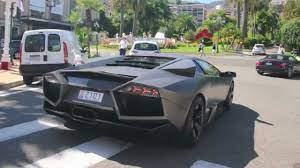Lamborghini: (69, 57, 230, 145)
